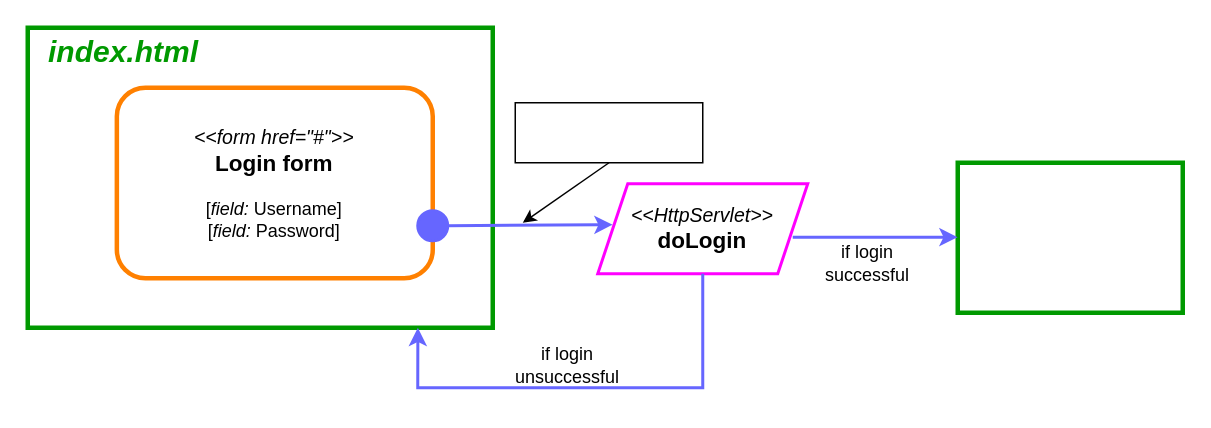
The diagram is 1211 pixels wide and 428 high, and some of its shapes have lost their labels. Each missing label, with the centre of its shape:
"home.html" goes at (x=1069, y=237).
"POST username, password" goes at (x=608, y=132).
